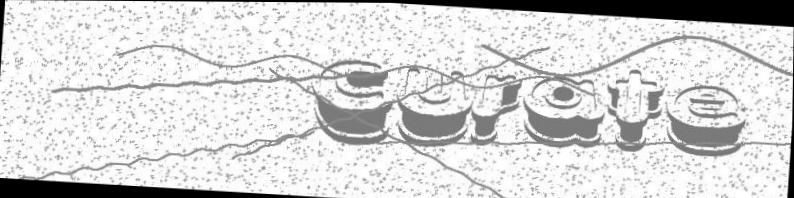a: (520, 73, 607, 148)
c: (308, 56, 394, 145)
e: (663, 82, 748, 156)
r: (470, 73, 523, 146)
t: (603, 67, 665, 151)
u: (394, 64, 476, 148)
